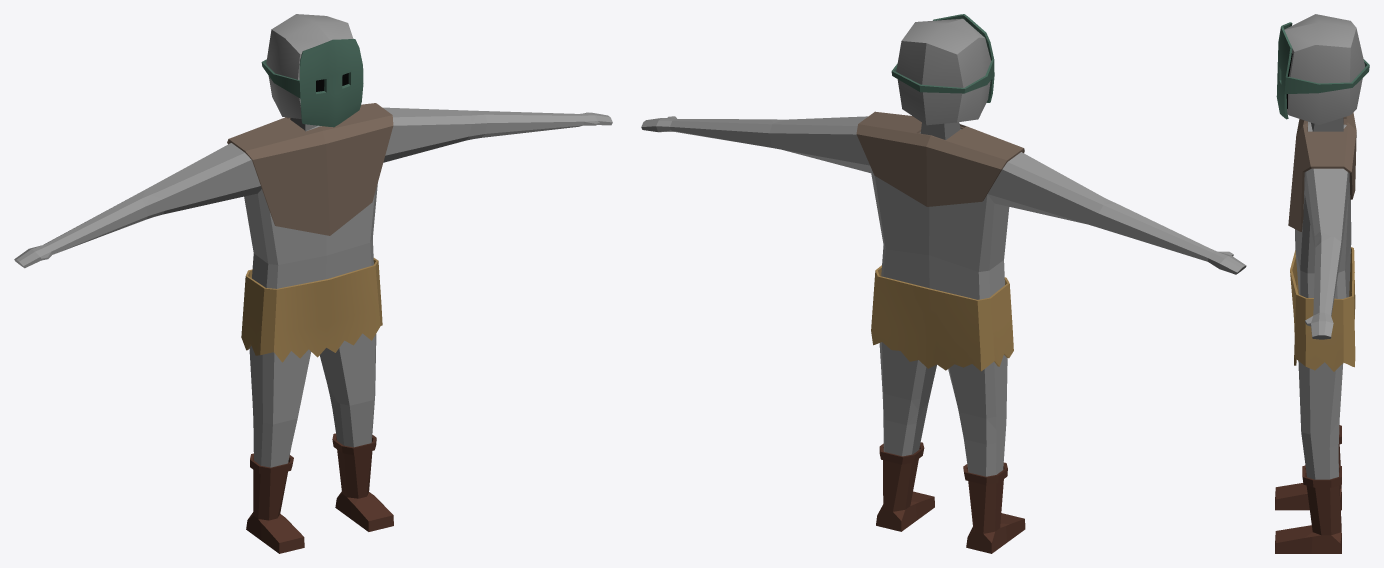
Rendered from Protagonista_NPC planta.fbx.
3 renders of one model, left to right at view 1: azimuth 30°, elevation 25°; view 2: azimuth 150°, elevation 25°; view 3: azimuth 270°, elevation 25°, orthographic.
Parts seen in each view (by area): view 1: Corpo, Manto, Calcinha, Bota, Mascara, Cabeca; view 2: Corpo, Calcinha, Manto, Cabeca, Bota, Mascara; view 3: Corpo, Cabeca, Bota, Calcinha, Manto, Mascara.
Part boxes in pixels (bbox=[...]): Corpo: bbox=[14, 107, 612, 467]; Manto: bbox=[227, 103, 393, 235]; Calcinha: bbox=[241, 258, 382, 362]; Bota: bbox=[246, 433, 393, 553]; Mascara: bbox=[261, 39, 363, 127]; Cabeca: bbox=[266, 14, 353, 118]; Corpo: bbox=[641, 116, 1246, 476]; Calcinha: bbox=[871, 265, 1013, 371]; Manto: bbox=[856, 111, 1024, 206]; Cabeca: bbox=[896, 18, 991, 125]; Bota: bbox=[876, 442, 1025, 553]; Mascara: bbox=[891, 14, 994, 102]; Corpo: bbox=[1295, 117, 1351, 479]; Cabeca: bbox=[1284, 14, 1364, 124]; Bota: bbox=[1275, 425, 1341, 553]; Calcinha: bbox=[1290, 247, 1355, 371]; Manto: bbox=[1288, 112, 1356, 231]; Mascara: bbox=[1276, 22, 1369, 119].
Size of the model in its own units: 221 by 179 by 30.5.
